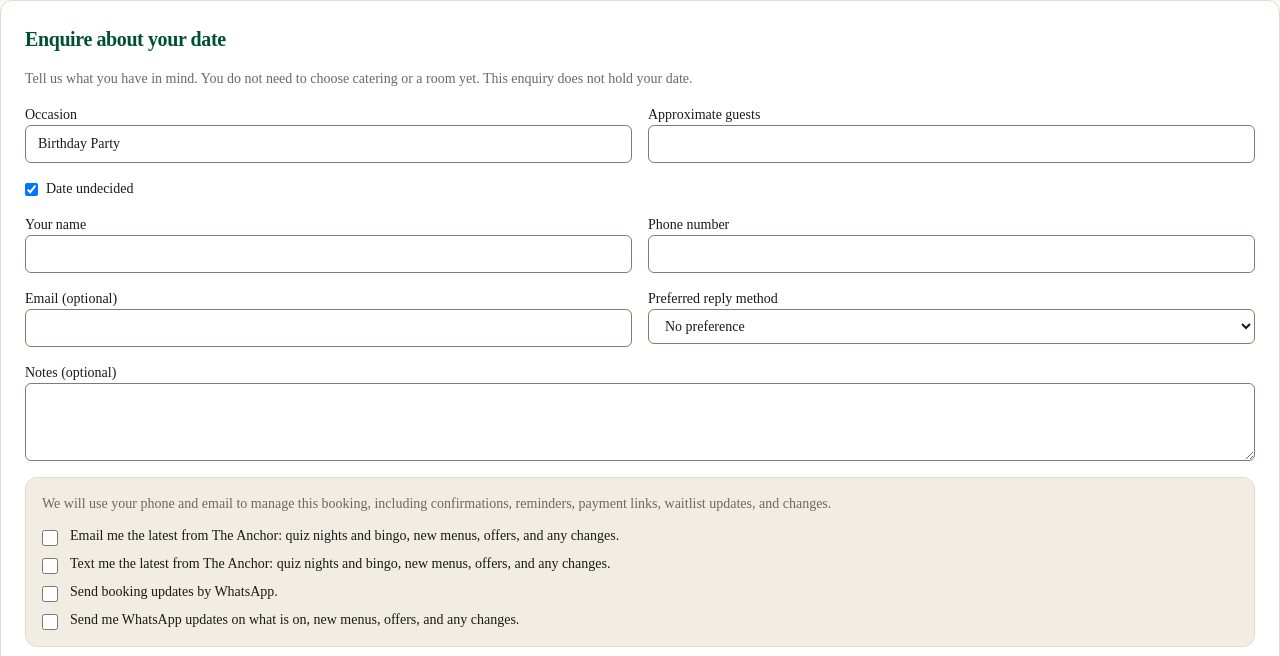
Test: invalid phone does not submit
Type "250" into the number field labelled "Approximate guests". click: [952, 144]
box: [648, 125, 1255, 163]
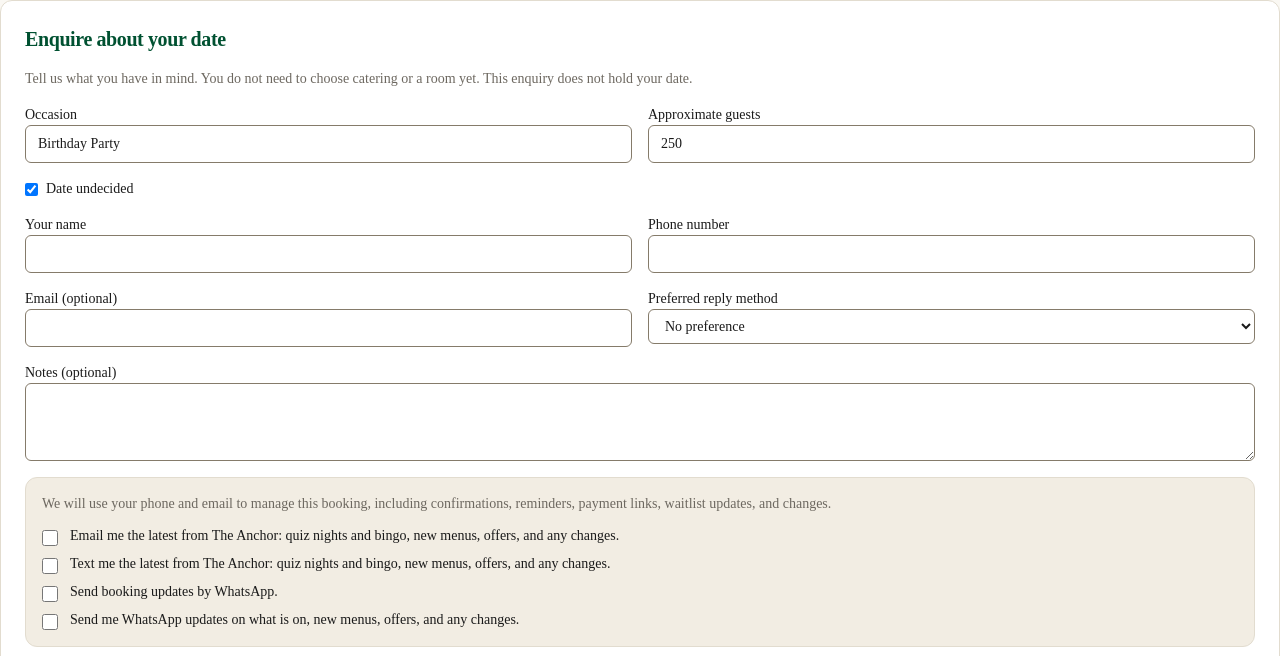
Type "Test Guest" into the field labelled "Your name". click: [328, 254]
box: [25, 235, 632, 273]
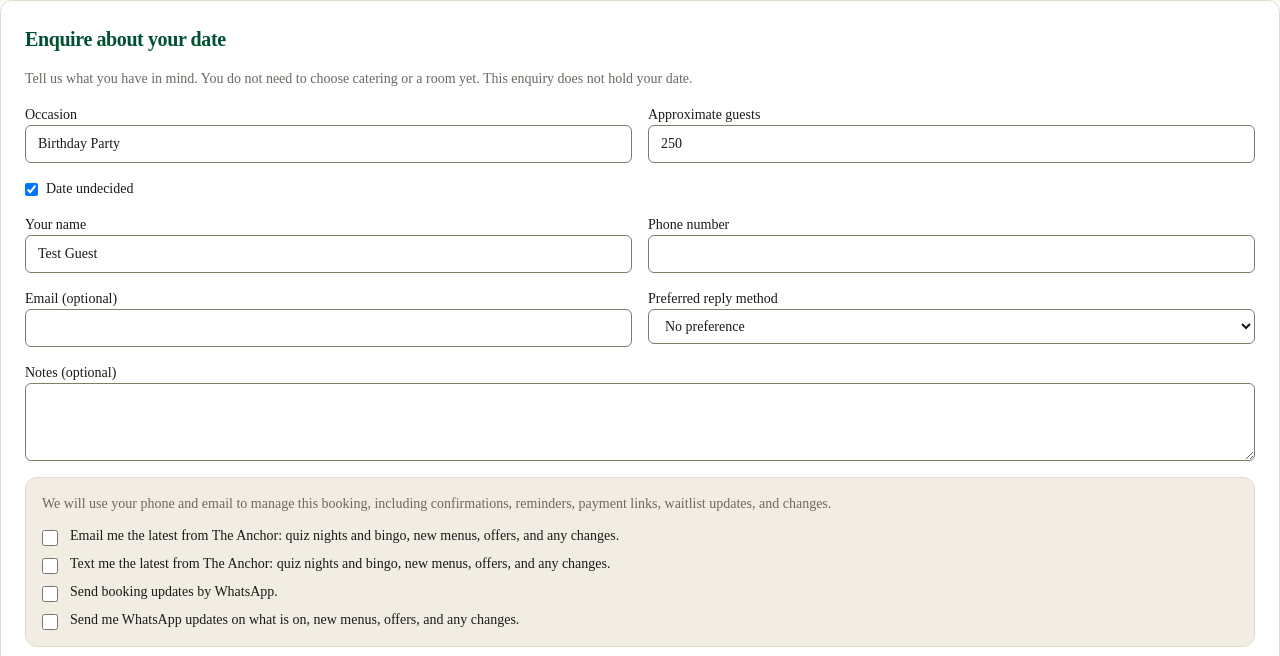
Type "+447700900000" into the field labelled "Phone number". click: [952, 254]
box: [648, 235, 1255, 273]
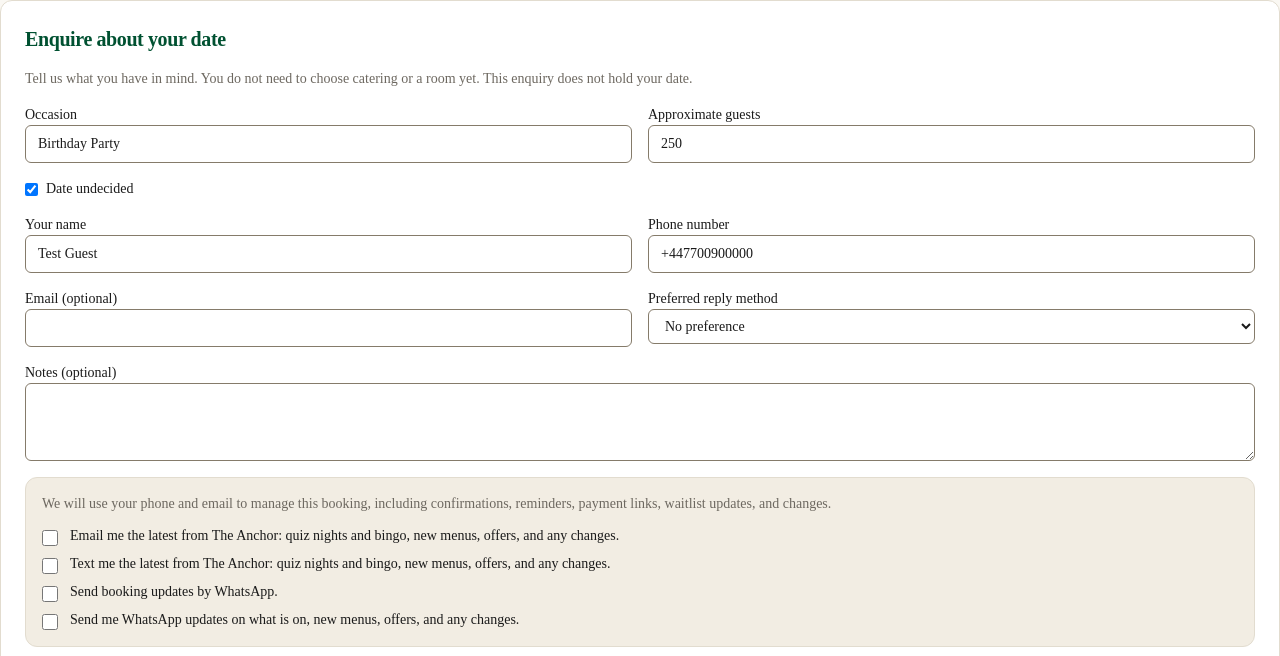
Replace the text in the field labelled "Phone number" with "wrong". click: [952, 254]
box: [648, 235, 1255, 273]
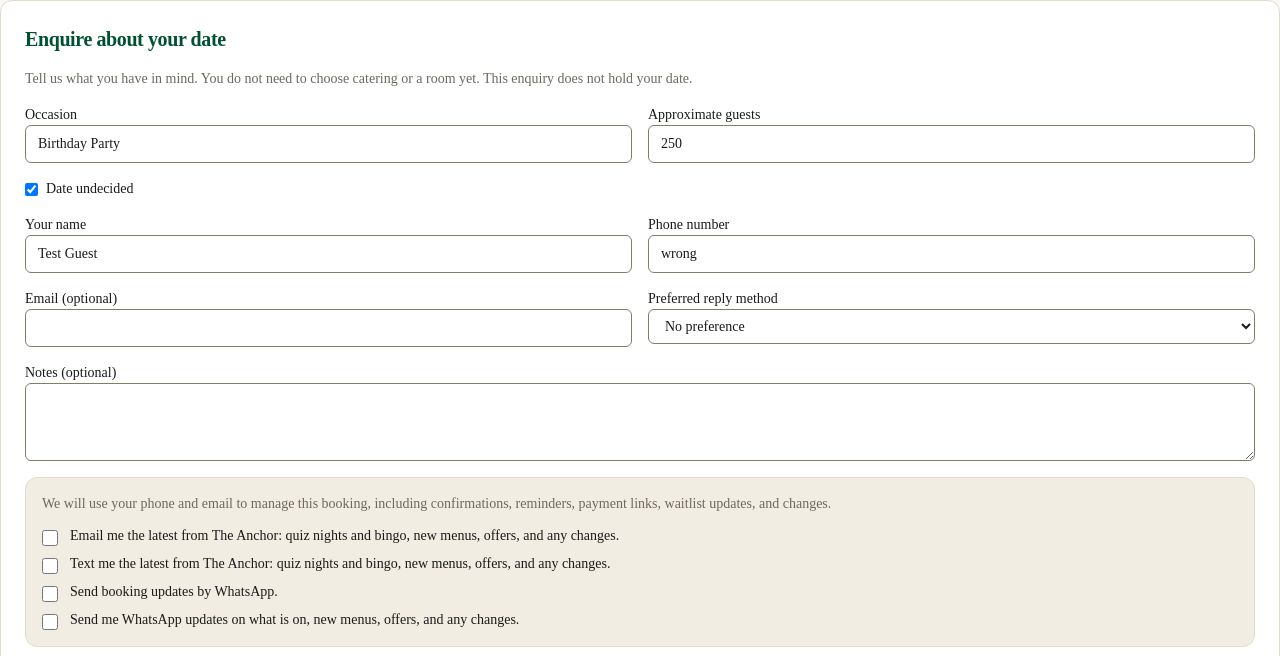
Submit the form named "Short private hire enquiry"
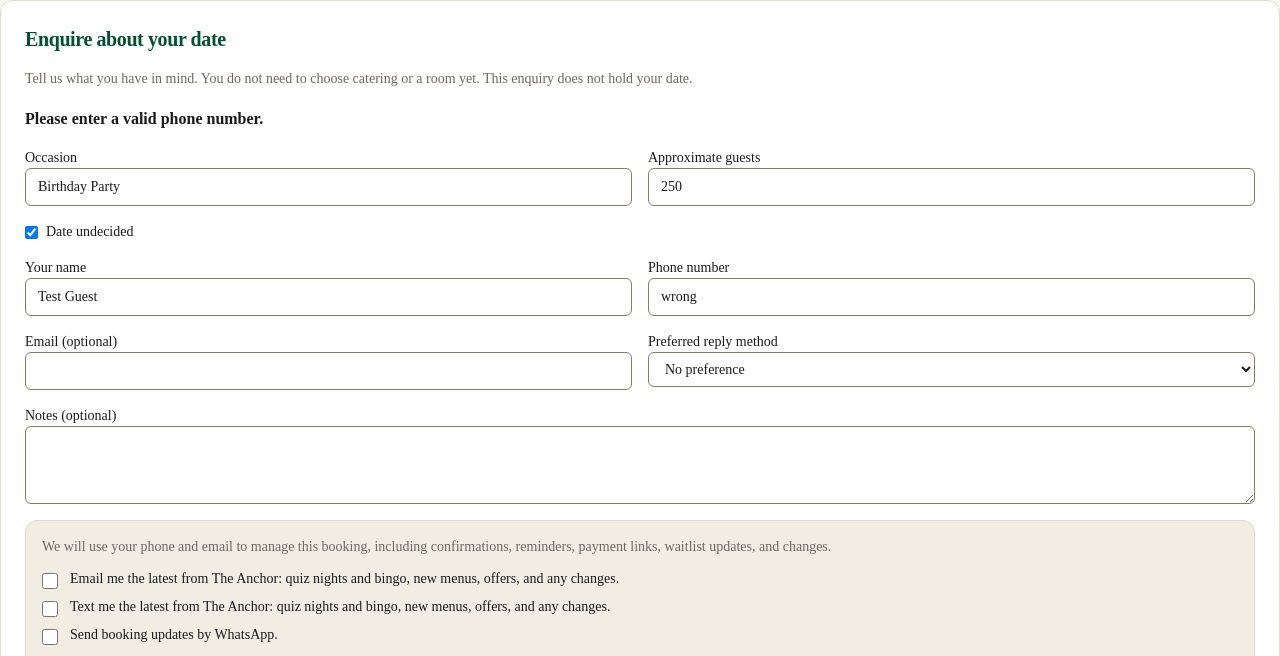
Now the message shows "valid phone", box [25, 110, 263, 127]
